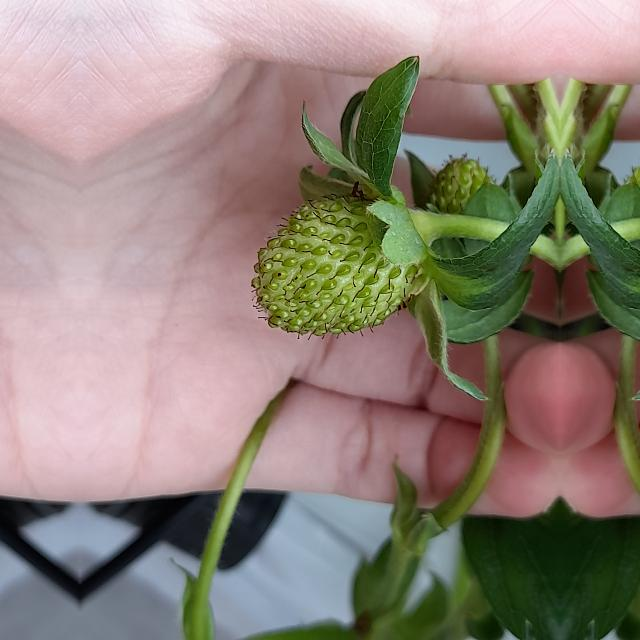Health_25: (250, 192, 418, 340)
